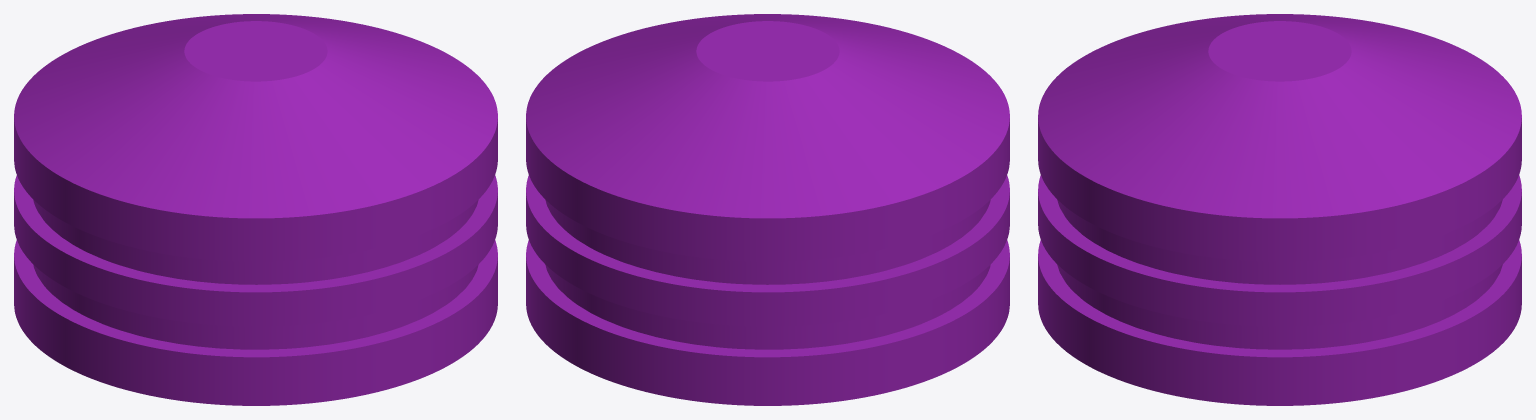
Rendered from elastomer_stopper.glb.
3 renders of one model, left to right at view 1: azimuth 30°, elevation 25°; view 2: azimuth 150°, elevation 25°; view 3: azimuth 270°, elevation 25°, orthographic.
Parts seen in each view (by area): view 1: _glb_stopper; view 2: _glb_stopper; view 3: _glb_stopper.
Part boxes in pixels (x1,y1,x2,y2): _glb_stopper: (14,14,497,405); _glb_stopper: (526,14,1009,405); _glb_stopper: (1038,14,1521,405).
Size of the model in its own units: 0.0122 by 0.007 by 0.0122.
